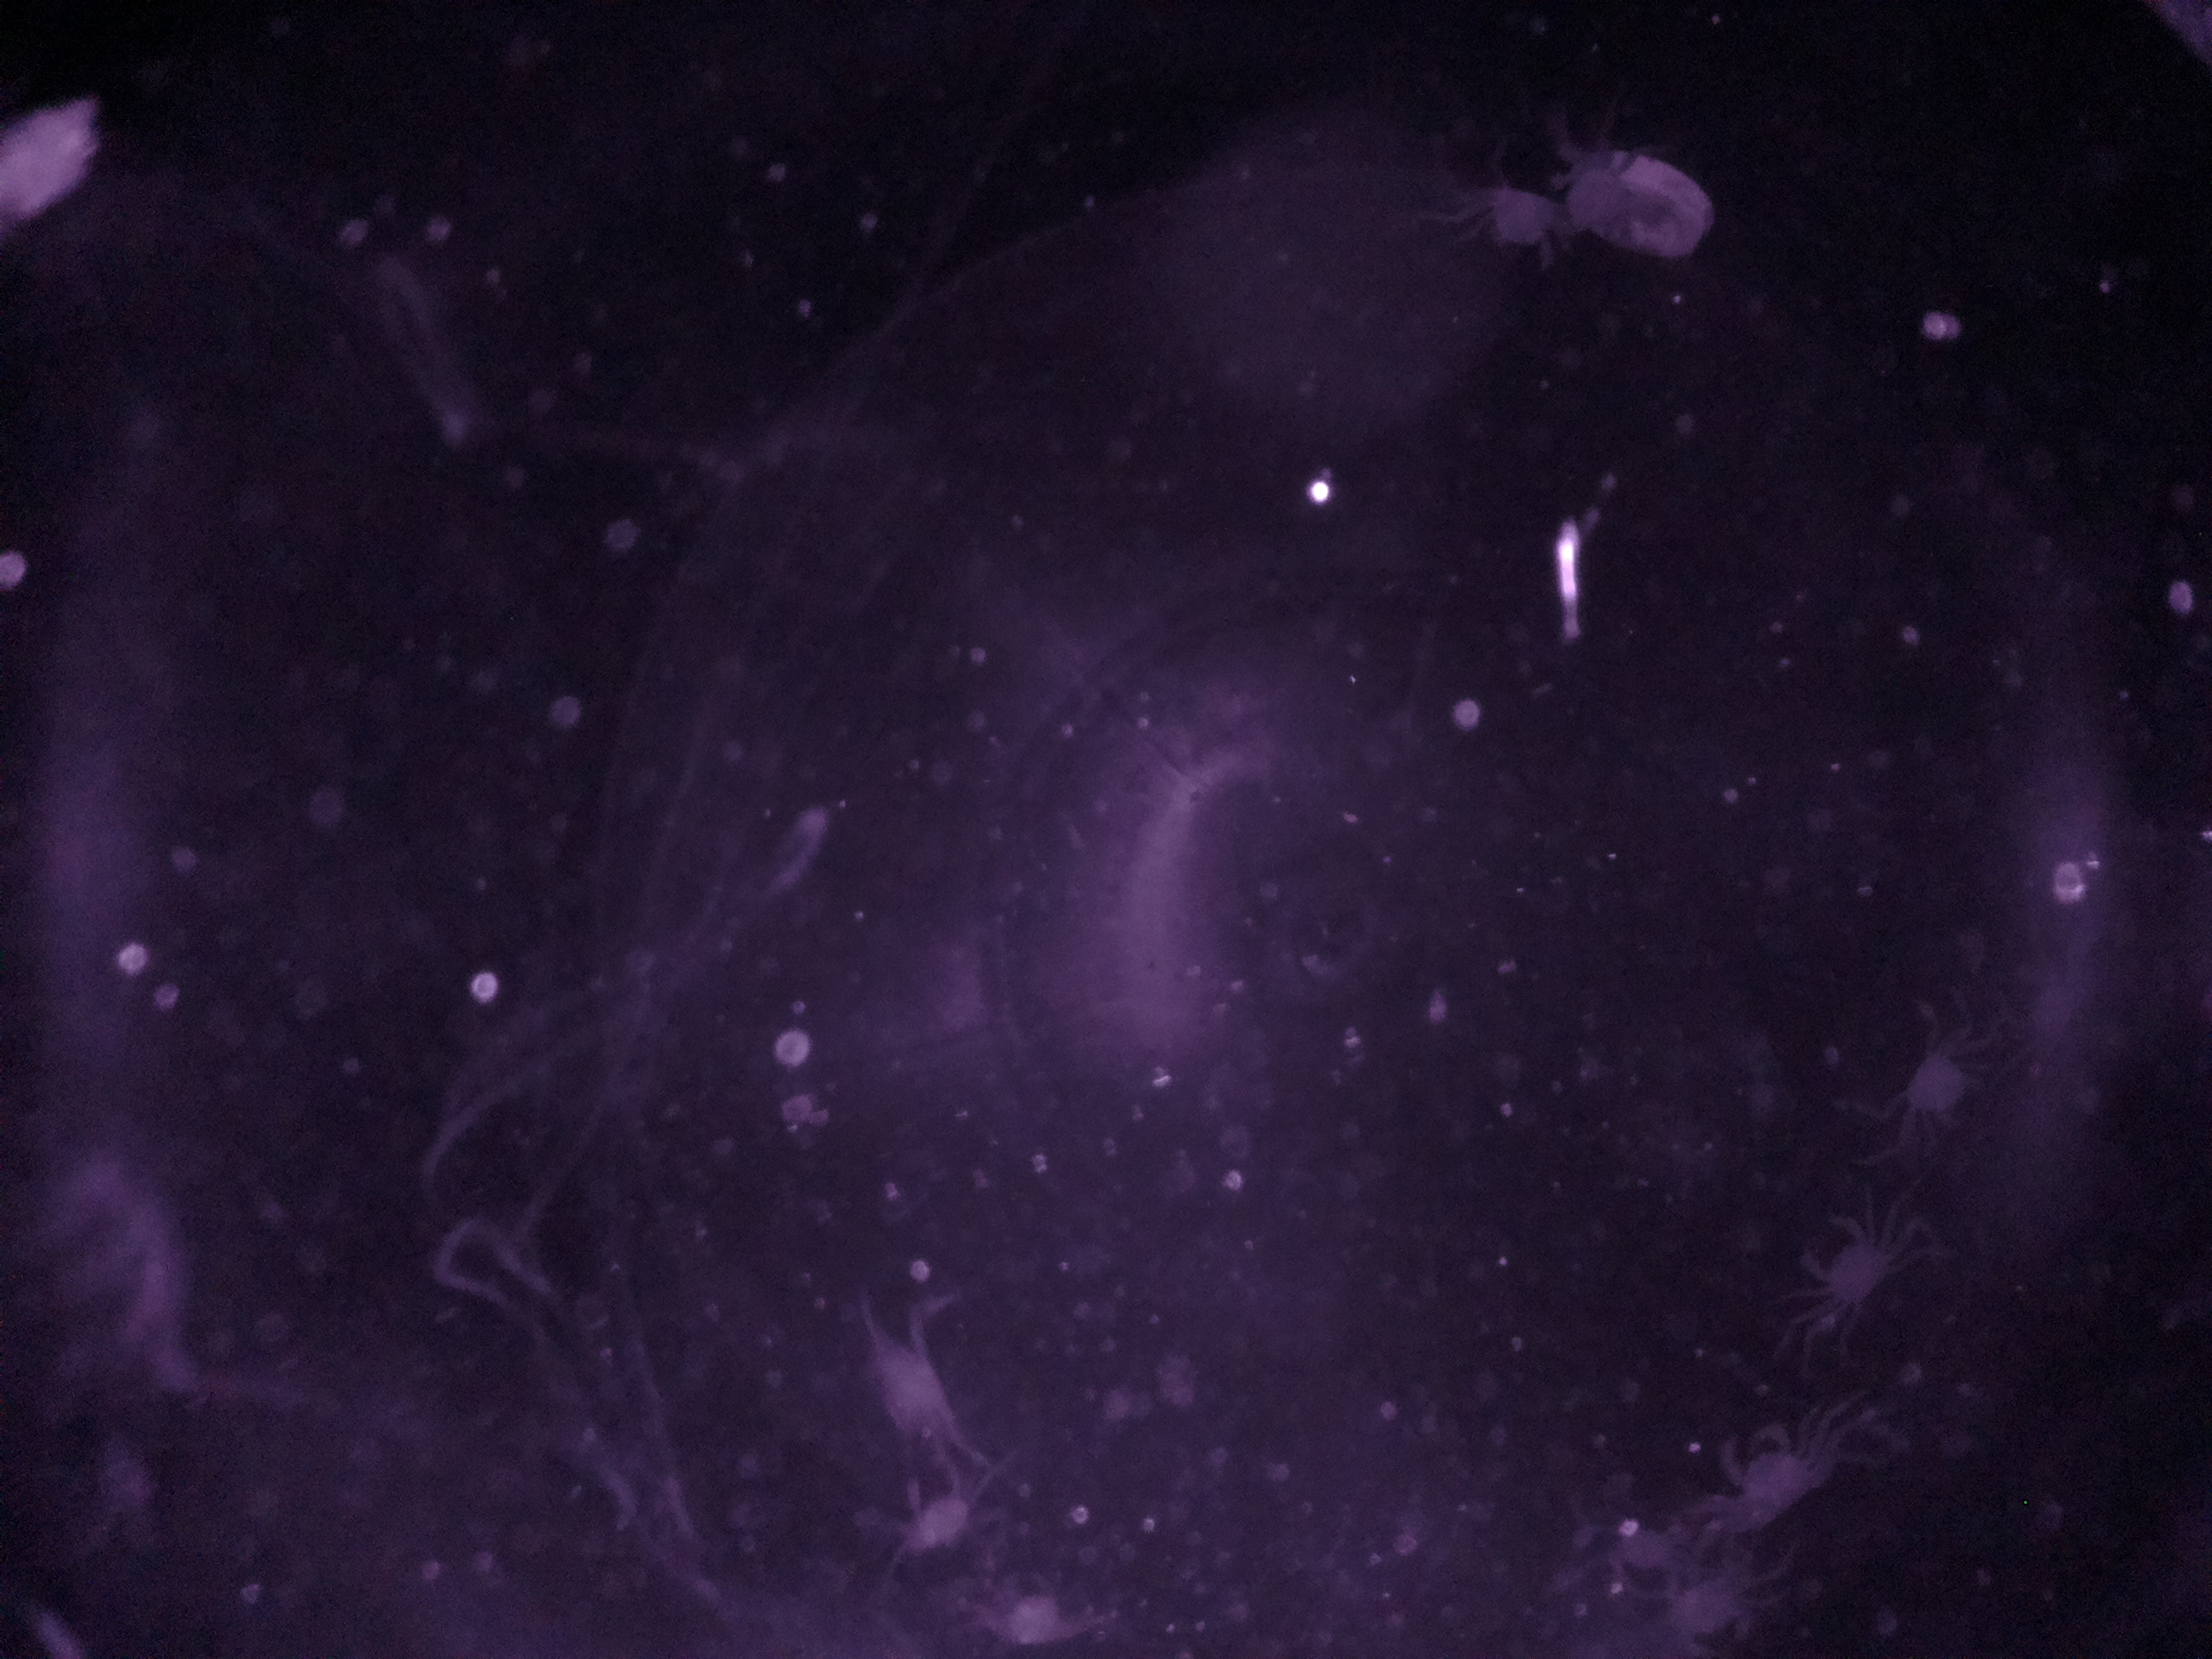Crab: (1778, 1192, 1914, 1331), (1700, 1392, 1829, 1537), (1865, 1028, 2020, 1145), (1465, 155, 1578, 281), (968, 1554, 1113, 1650)
